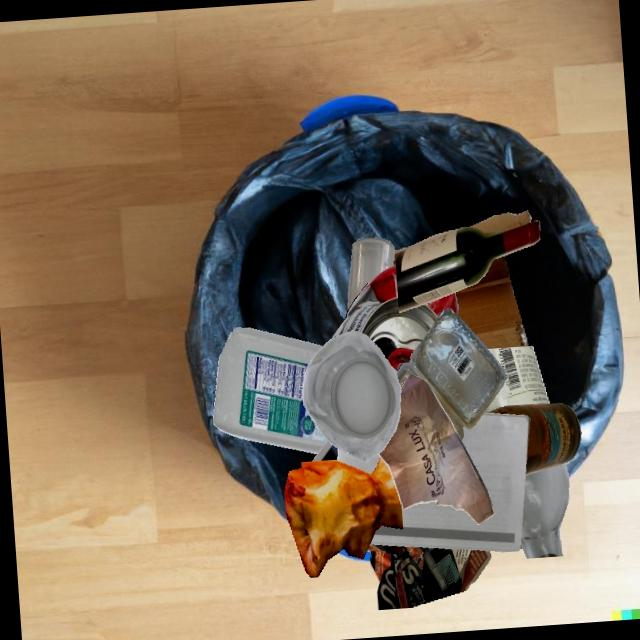biowaste: (284, 456, 403, 576)
cardboard: (395, 232, 485, 315), (459, 255, 528, 349)
glass: (395, 220, 539, 312), (487, 403, 581, 475), (520, 462, 569, 558), (483, 346, 549, 413), (348, 237, 394, 309)
metal: (330, 265, 458, 372)
paper: (369, 412, 530, 551), (378, 374, 494, 524), (366, 543, 491, 610)
plastic: (396, 307, 506, 440), (213, 327, 327, 453), (302, 330, 400, 462)
